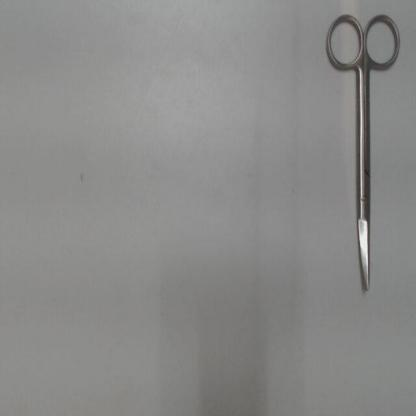Curved Mayo Scissors: (322, 8, 404, 296)
